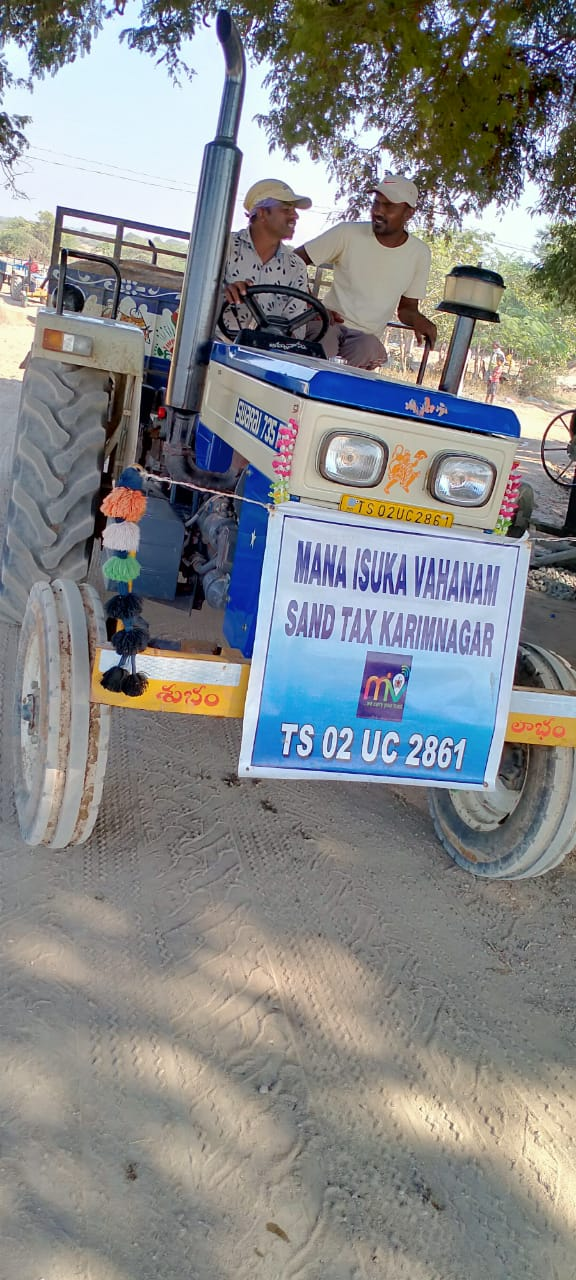num_plate: (266, 708, 486, 788)
